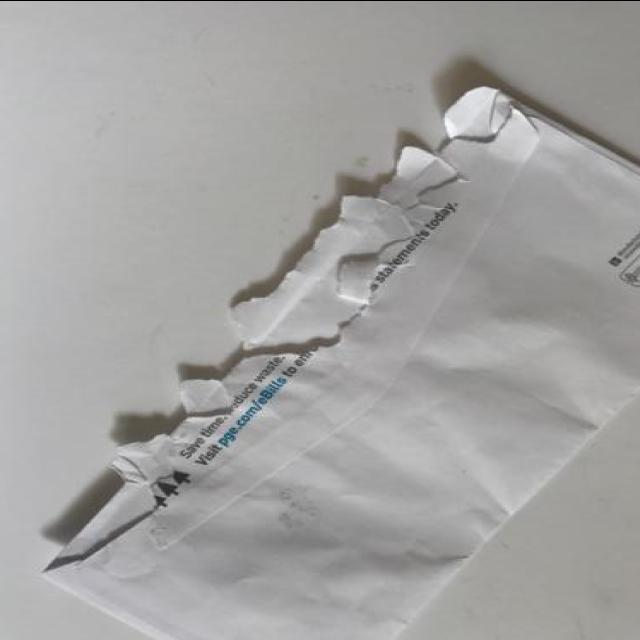kertas: (39, 85, 640, 640)
